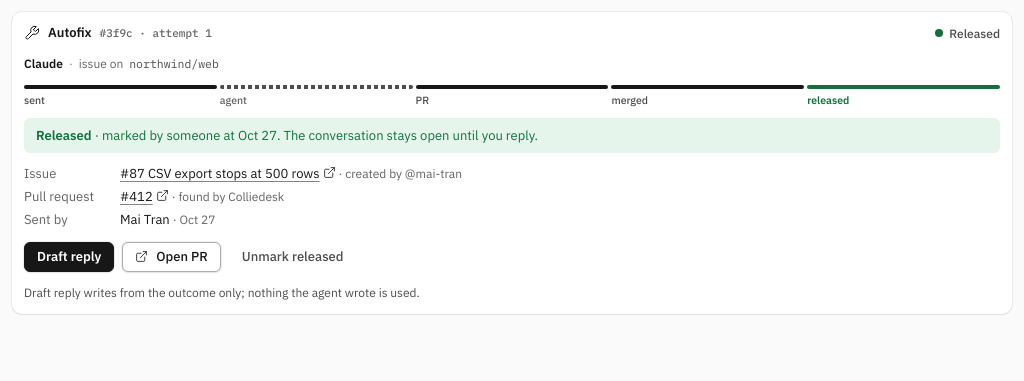
AutofixConversation › asks the AI draft for a reply from the outcome when AI drafts are on
Click the button "Draft reply": (69, 257) [24,242,114,272]
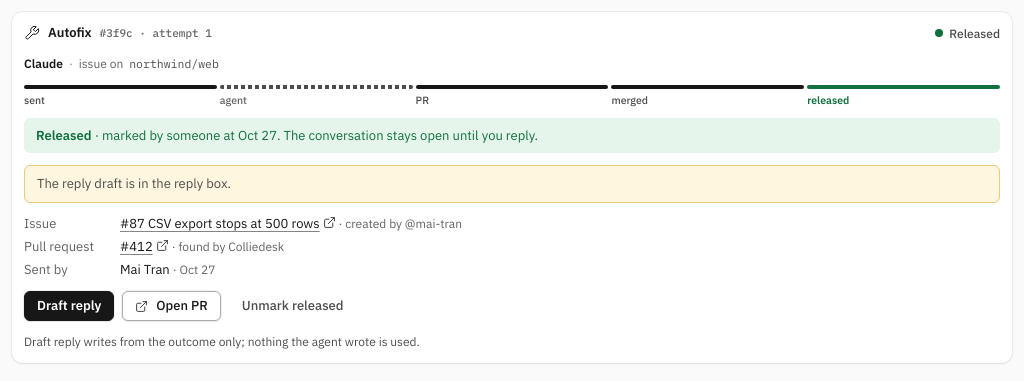
Expected: the text "The reply draft is in the reply box." is shown, [24,165,1000,203]
